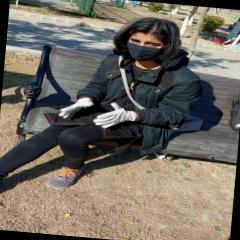gloved: (92, 102, 134, 131), (60, 95, 95, 121)
